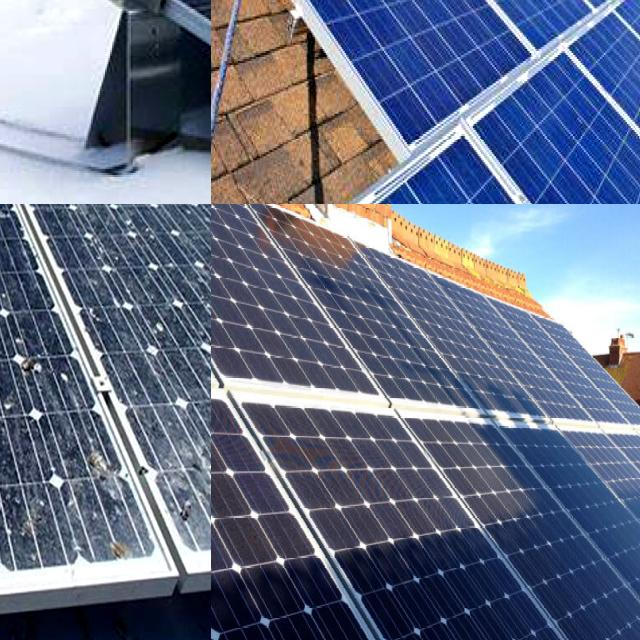bird: (0, 478, 37, 569), (0, 398, 25, 498), (98, 518, 147, 560), (13, 507, 46, 560), (0, 364, 30, 422), (5, 352, 53, 388), (84, 434, 116, 487), (164, 498, 209, 530), (0, 536, 21, 600)
crack: (211, 204, 640, 508), (211, 375, 640, 640), (211, 0, 528, 167), (352, 0, 603, 131), (457, 75, 640, 204), (548, 0, 640, 204), (455, 0, 628, 91), (493, 0, 640, 88)
panel: (0, 0, 162, 31), (118, 0, 204, 25)
